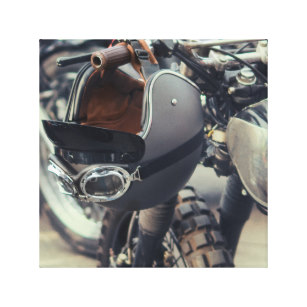with_helmet: (51, 59, 201, 211)
